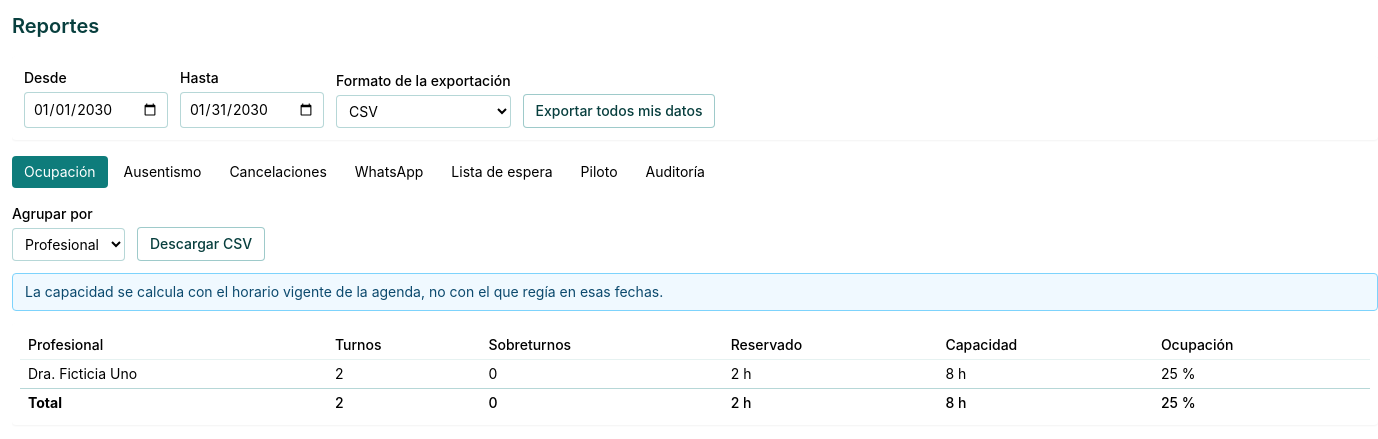
Test: ReportsPage › cancelaciones lista cada motivo con su corte
This screenshot has width=1378, height=439.
Click the tab "Cancelaciones".
click(278, 172)  # box [217, 156, 339, 188]
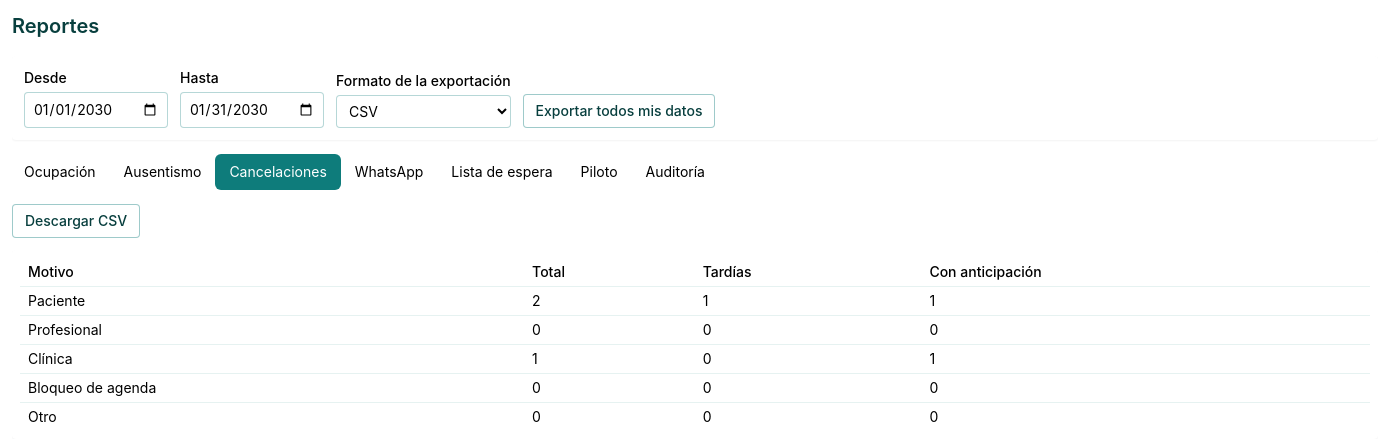
Check: the row "Paciente 2 1 1" is shown, box [20, 286, 1370, 316]
Check: the row "Clínica 1 0 1" is shown, box [20, 344, 1370, 374]
